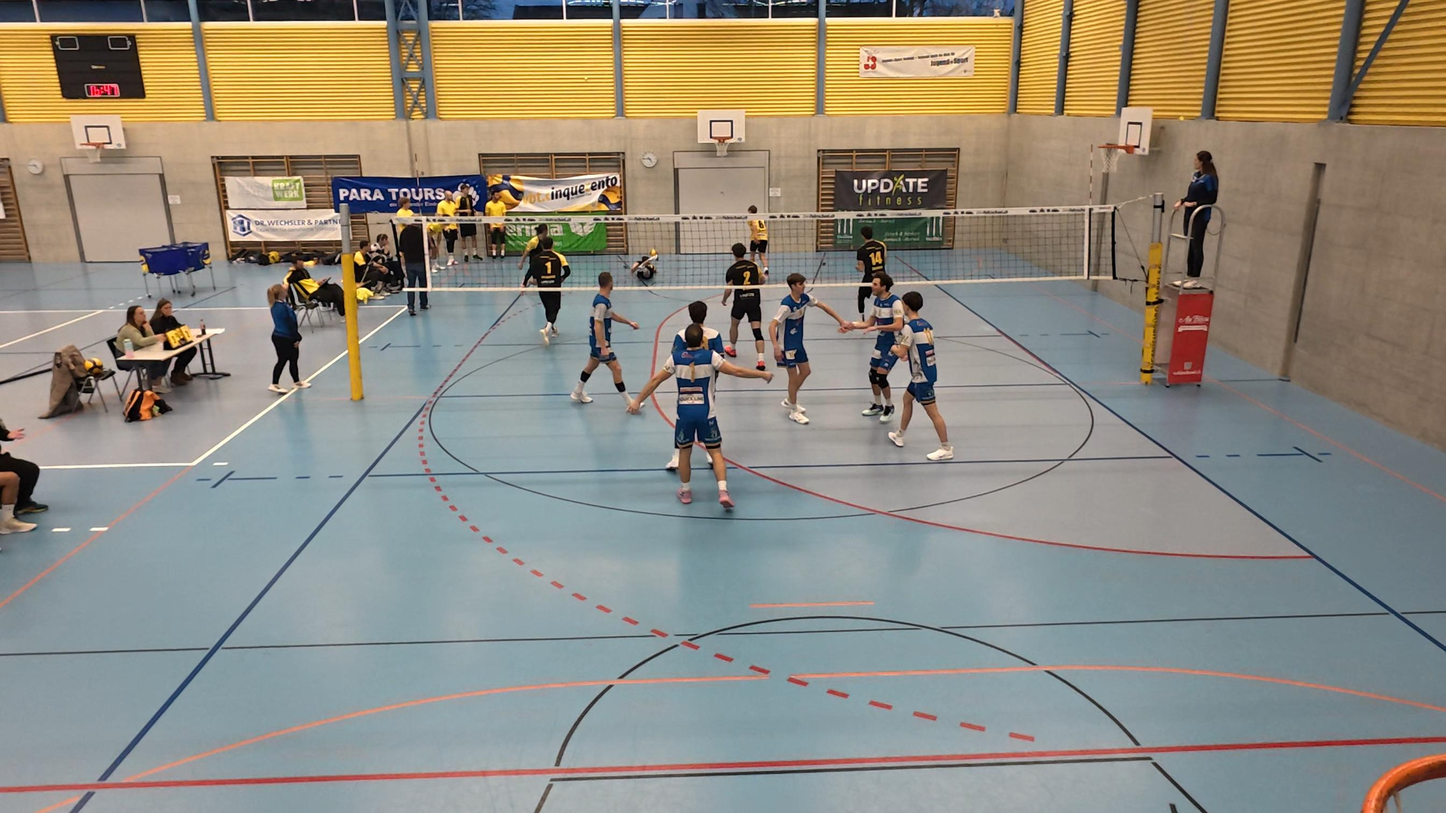Dig: (624, 244, 664, 296)
Player: (631, 319, 770, 510), (883, 294, 953, 461), (573, 278, 645, 405), (767, 274, 820, 424), (861, 281, 908, 422), (722, 247, 768, 368), (524, 232, 572, 345), (851, 254, 889, 337), (515, 219, 547, 289), (858, 229, 888, 293), (745, 209, 772, 277)
ball: (646, 245, 661, 257)
